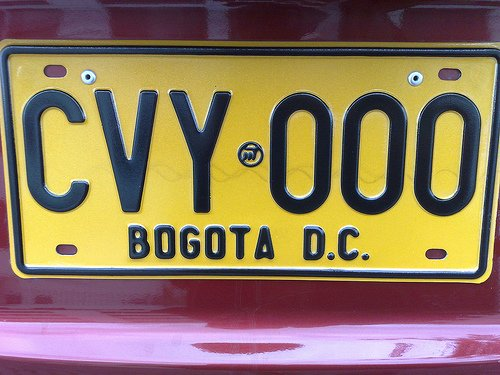number plate: (0, 41, 499, 281)
